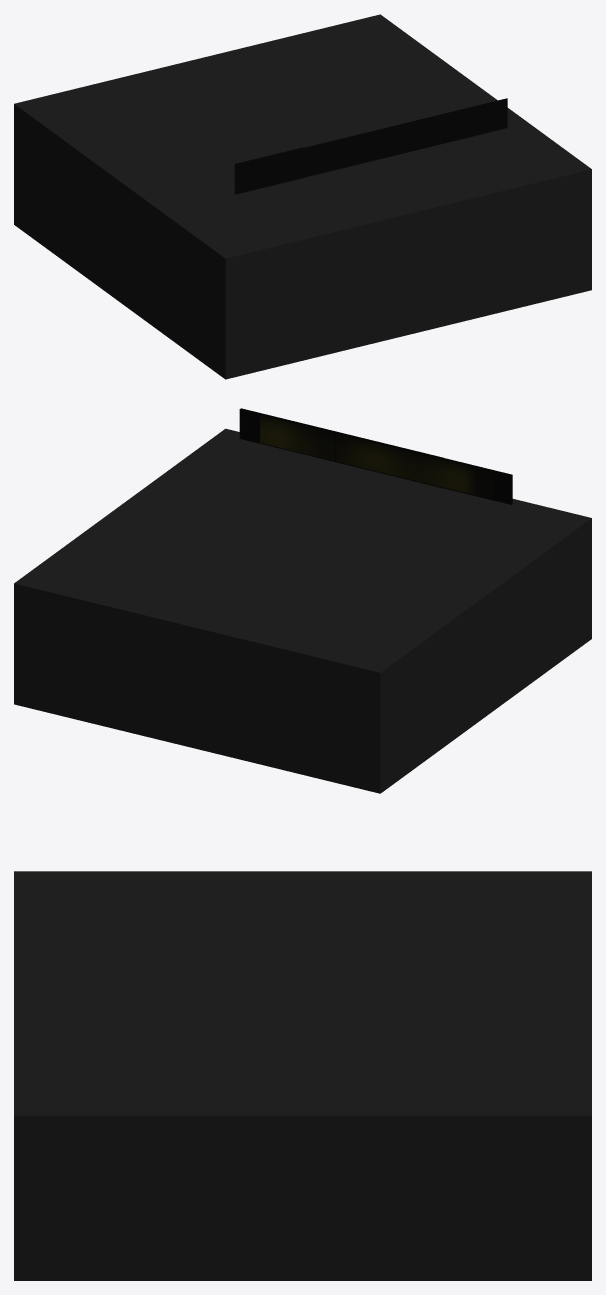
Rendered from Backrooms.fbx.
3 renders of one model, top to bottom at view 1: azimuth 30°, elevation 25°; view 2: azimuth 150°, elevation 25°; view 3: azimuth 270°, elevation 25°, orthographic. The views are drawn at different scales.
Parts seen in each view (by area): view 1: OuterBox, Walls; view 2: OuterBox, Walls; view 3: OuterBox.
Part boxes in pixels (box(x1,y1,x2,y2)): OuterBox: box(14, 14, 591, 379); Walls: box(234, 98, 507, 194); OuterBox: box(14, 428, 591, 793); Walls: box(239, 408, 512, 504); OuterBox: box(14, 871, 591, 1280).
Bounding box in the file's own units: 2557 × 1193 × 2557.
